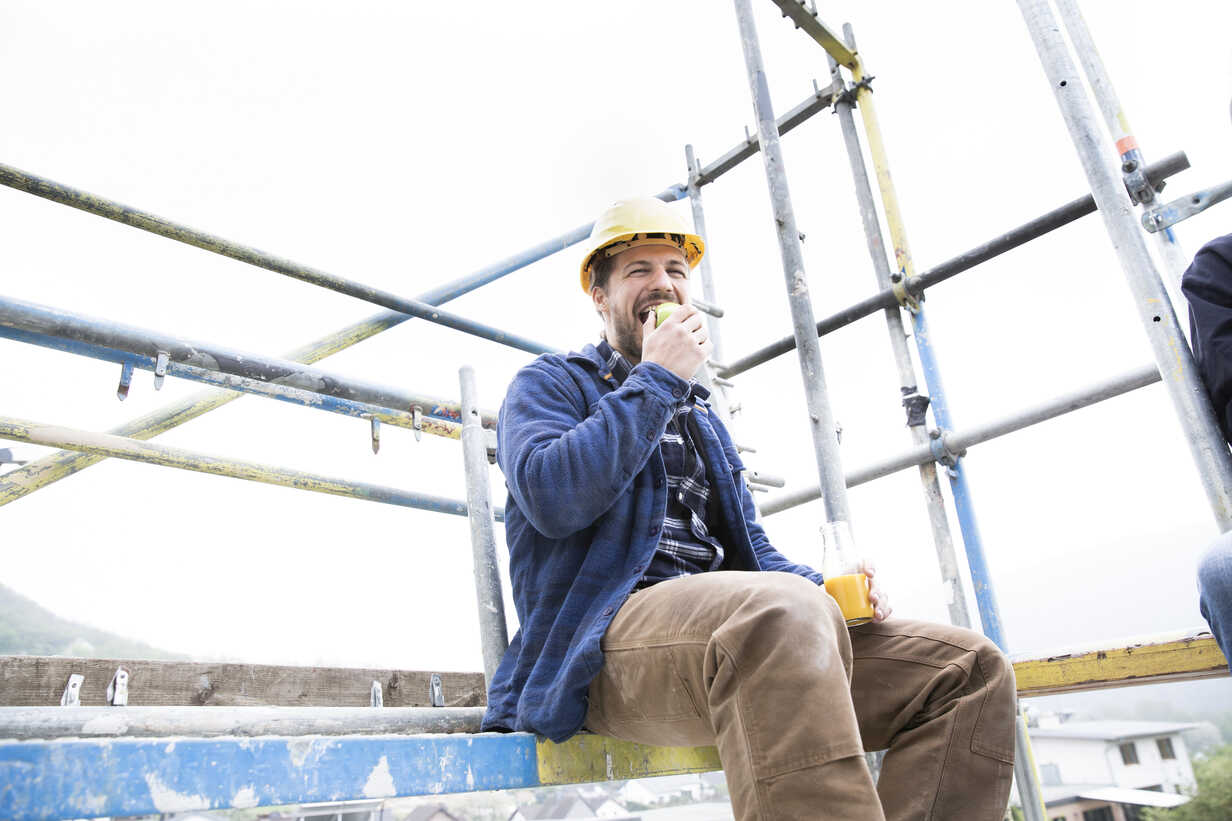With Helmet: (577, 191, 712, 355)
